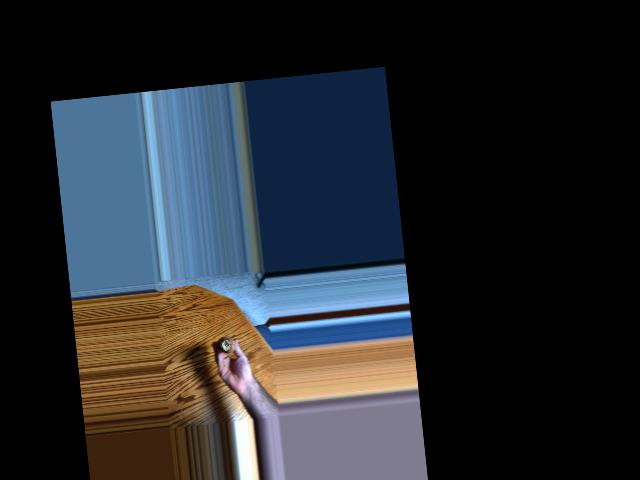sweet_potato: (219, 331, 237, 354)
